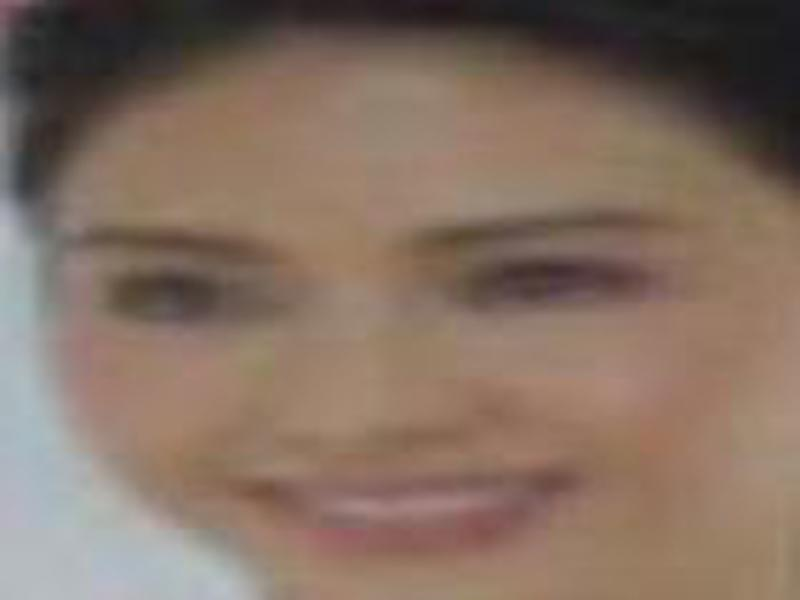without_mask: (33, 27, 799, 600)
